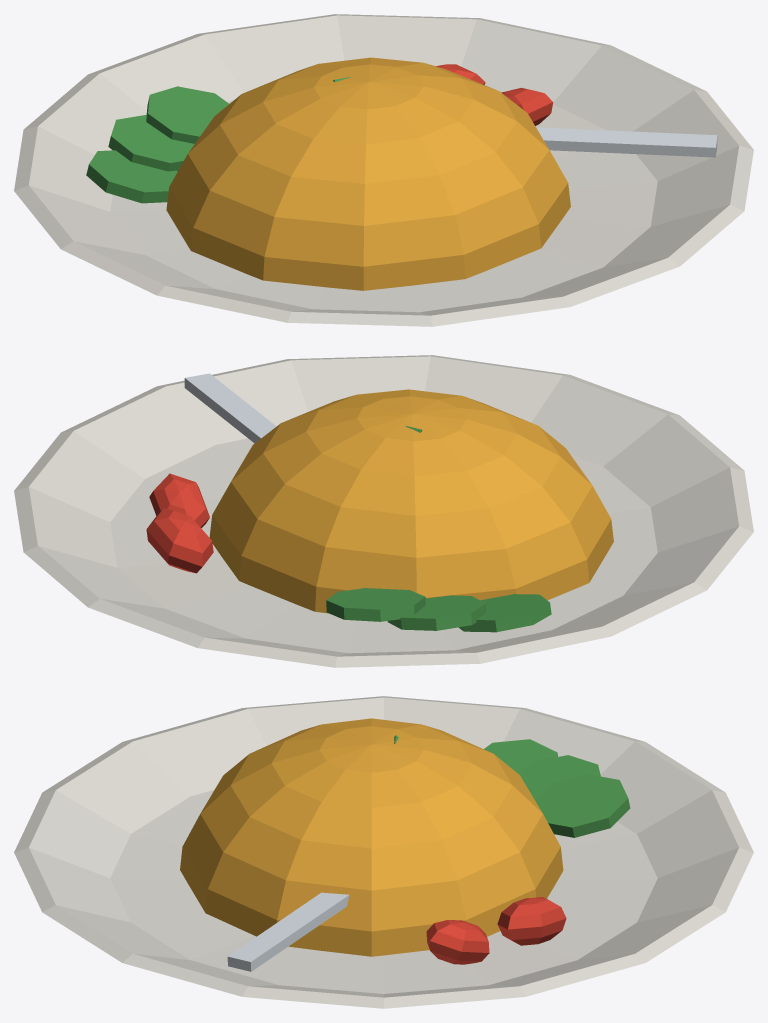
The model's file is fried-rice-lite.glb.
The picture shows the model from 3 angles, top to bottom: view 1: azimuth 30°, elevation 25°; view 2: azimuth 150°, elevation 25°; view 3: azimuth 270°, elevation 25°; orthographic projection.
Visible parts, largest first — view 1: VesselMesh, RiceFullMound, RiceFullGreens, FriedRiceSpoon, RicePartialGreens, RiceFullTomato; view 2: VesselMesh, RiceFullMound, RiceFullGreens, RiceFullTomato, FriedRiceSpoon, RicePartialGreens, RicePartialTomato; view 3: VesselMesh, RiceFullMound, RiceFullGreens, RiceFullTomato, FriedRiceSpoon, RicePartialTomato, RicePartialGreens.
Boxes of the visible parts, x1,y1,x2,y2 form: VesselMesh: (14, 14, 753, 326); RiceFullMound: (166, 57, 570, 290); RiceFullGreens: (86, 77, 350, 203); FriedRiceSpoon: (536, 127, 717, 157); RicePartialGreens: (88, 115, 194, 197); RiceFullTomato: (436, 65, 553, 125); VesselMesh: (14, 355, 753, 667); RiceFullMound: (209, 389, 613, 613); RiceFullGreens: (326, 426, 551, 630); RiceFullTomato: (146, 473, 213, 573); FriedRiceSpoon: (184, 373, 276, 443); RicePartialGreens: (388, 594, 549, 632); RicePartialTomato: (147, 513, 212, 568); VesselMesh: (14, 696, 753, 1008); RiceFullMound: (180, 718, 563, 956); RiceFullGreens: (394, 735, 630, 837); RiceFullTomato: (426, 898, 562, 964); FriedRiceSpoon: (227, 892, 349, 971); RicePartialTomato: (501, 897, 566, 945); RicePartialGreens: (484, 739, 572, 784).
Bounding box in the file's own units: 0.24 × 0.0551 × 0.24.
